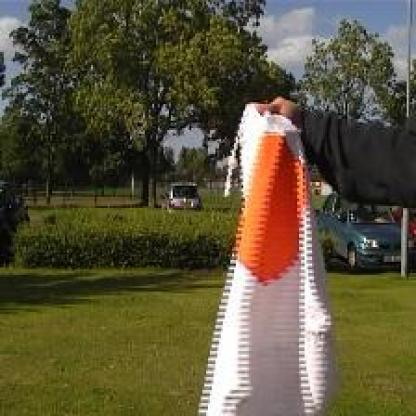other: (234, 104, 320, 296)
